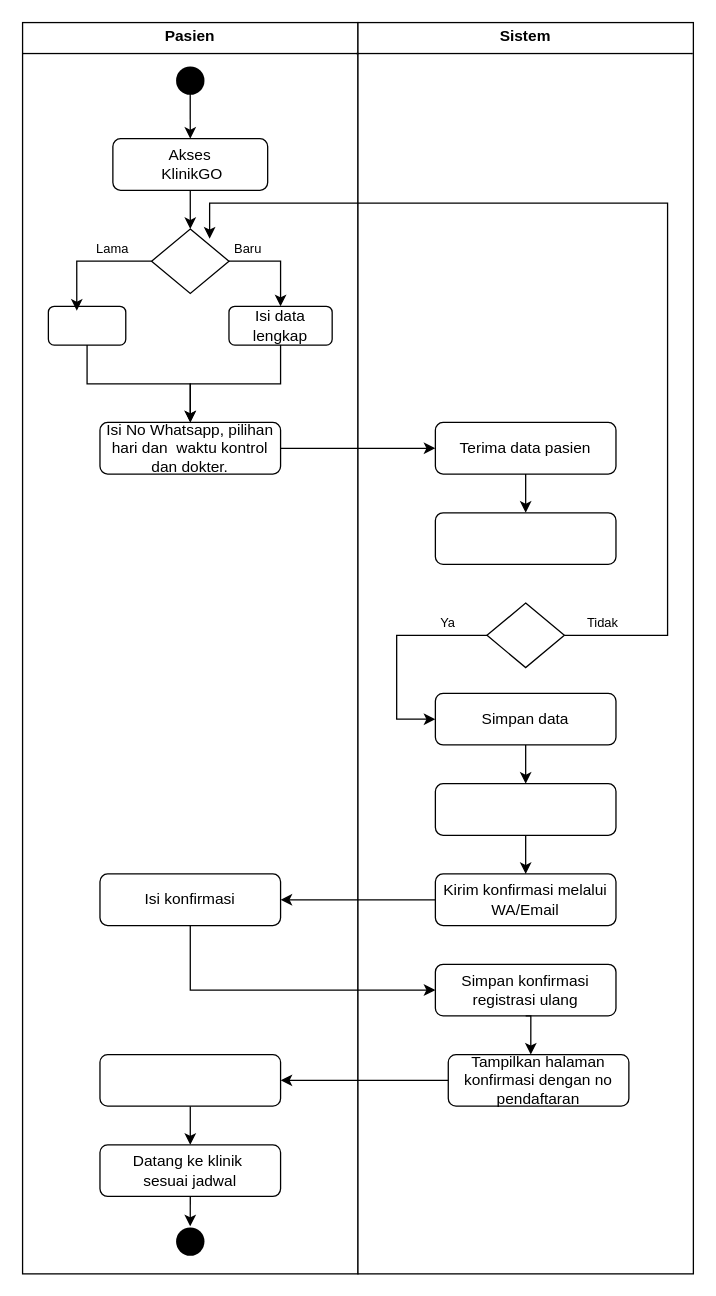
The diagram is 716 pixels wide and 1296 high, and some of its shapes have lost their labels. The centre of each missing label's shape, as x and y in pixels:
"Buat No Pendaftaran" goes at point (525, 808).
"Isi No RM" goes at point (86, 325).
"Jenis pasien?" goes at point (189, 260).
"Sesuai?" goes at point (525, 635).
"Simpan bukti registrasi" goes at point (190, 1079).
"Validasi data" goes at point (525, 537).
